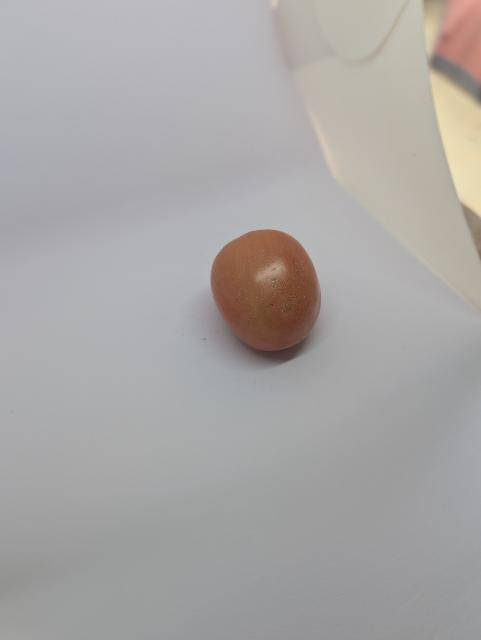turning: (203, 225, 328, 355)
